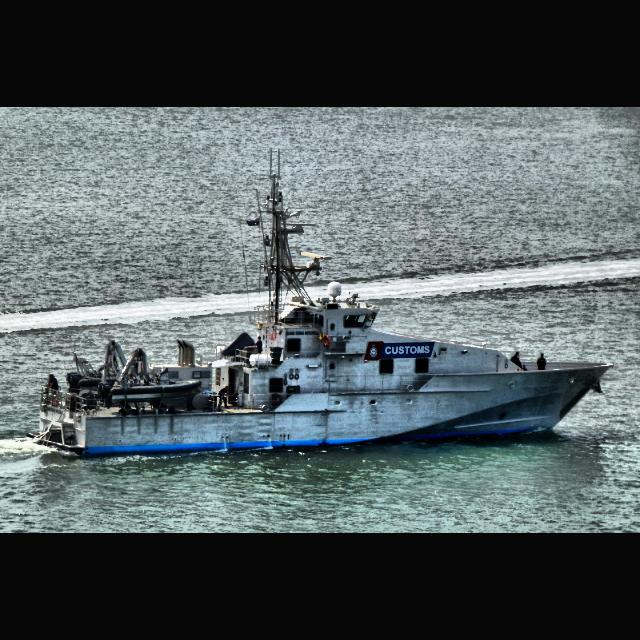patrol_vessel: (26, 150, 614, 460)
